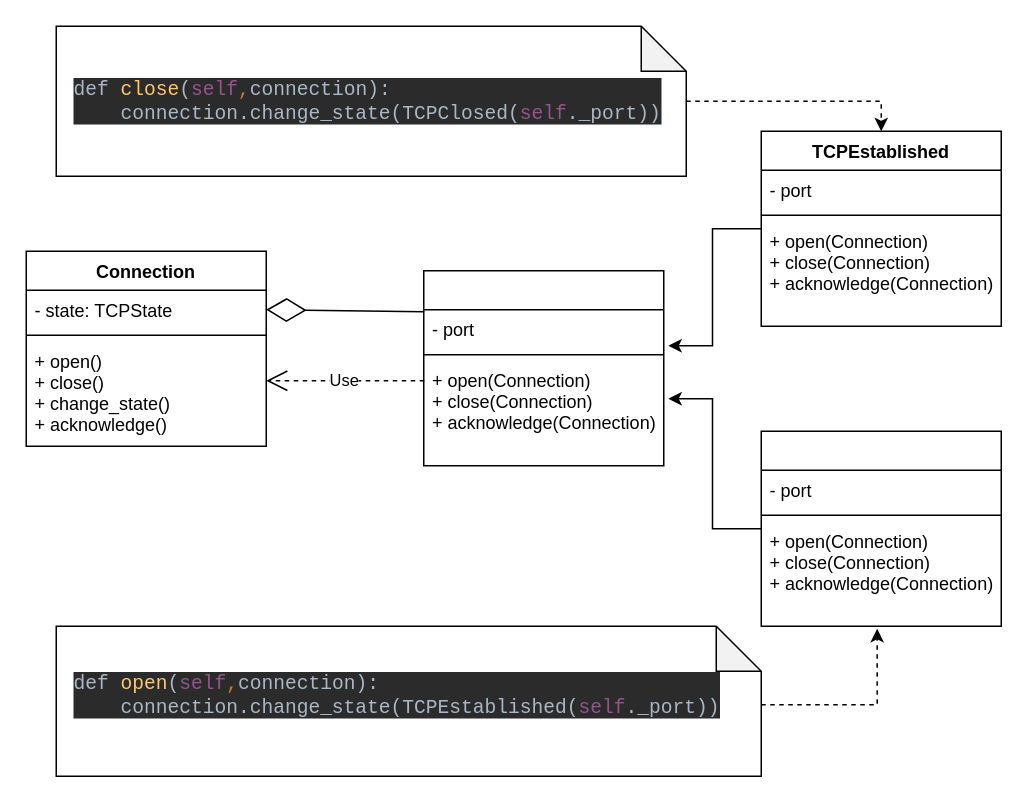
Some shapes in this 1028 by 803 pixel diagram are drawn without their labels. The box of each missing label's shape, as (x1, y1, x2, y2) in pixels:
TCPClosed: (760, 430, 1001, 626)
TCPState: (422, 269, 664, 466)
